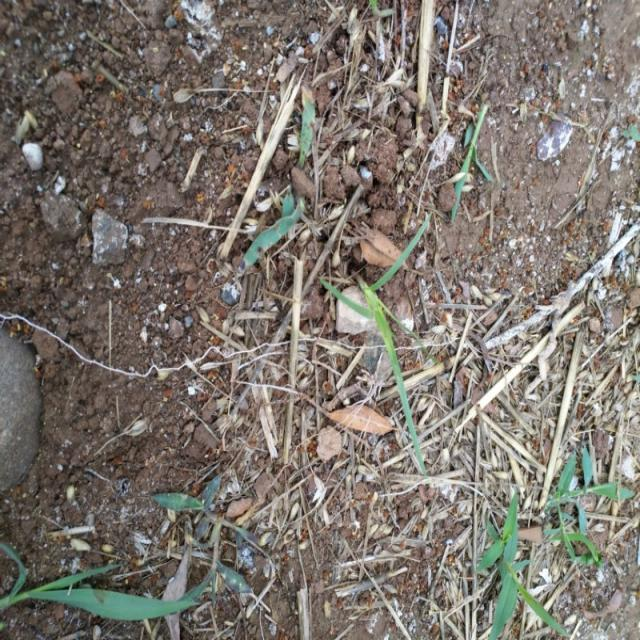sedge: (298, 234, 452, 472)
